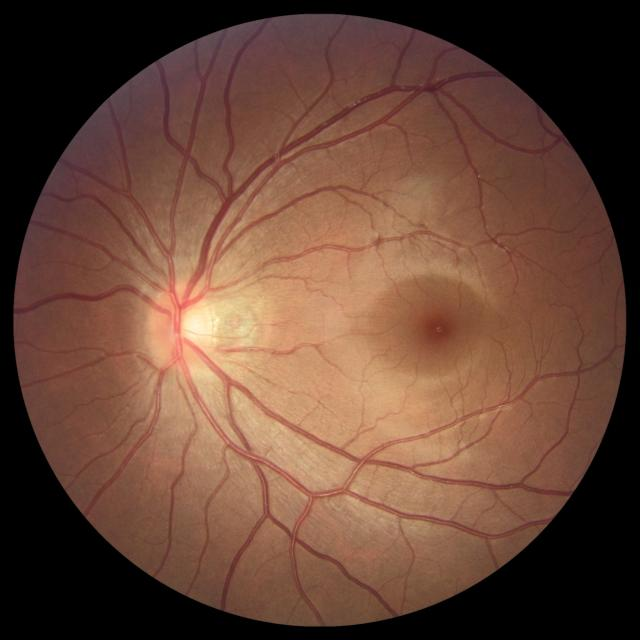OC: (164, 306, 206, 346)
OD: (146, 282, 217, 371)
